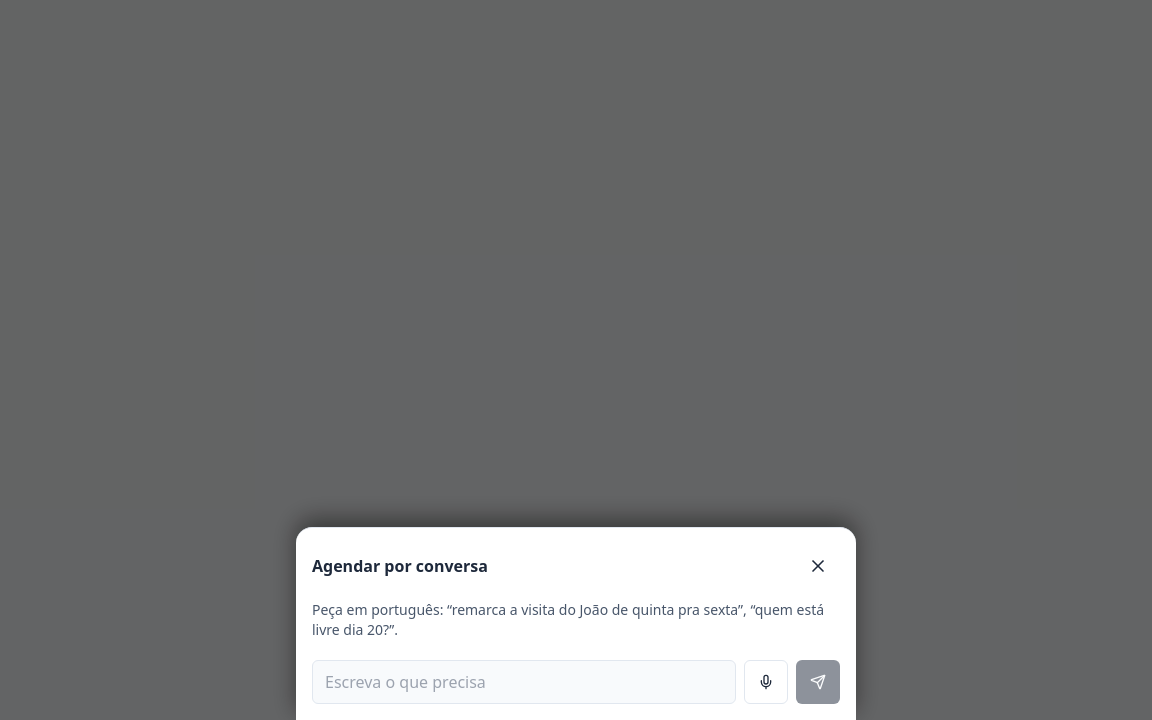
Test case: ChatAgenda › mostra a resposta de texto do assistente
Step 1. Type "o que tenho quinta?" into the field with placeholder "Escreva o que precisa" → (524, 682), box [312, 660, 736, 704]
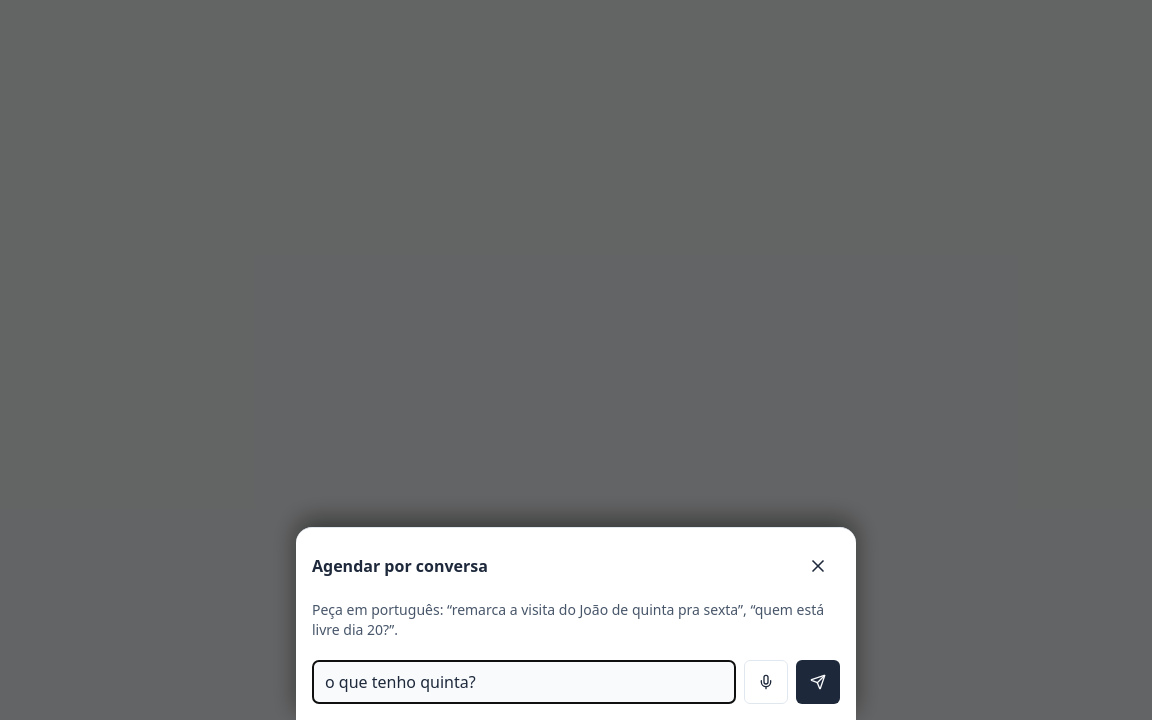
Step 2. Click the button named "enviar" → (818, 682), box [796, 660, 840, 704]
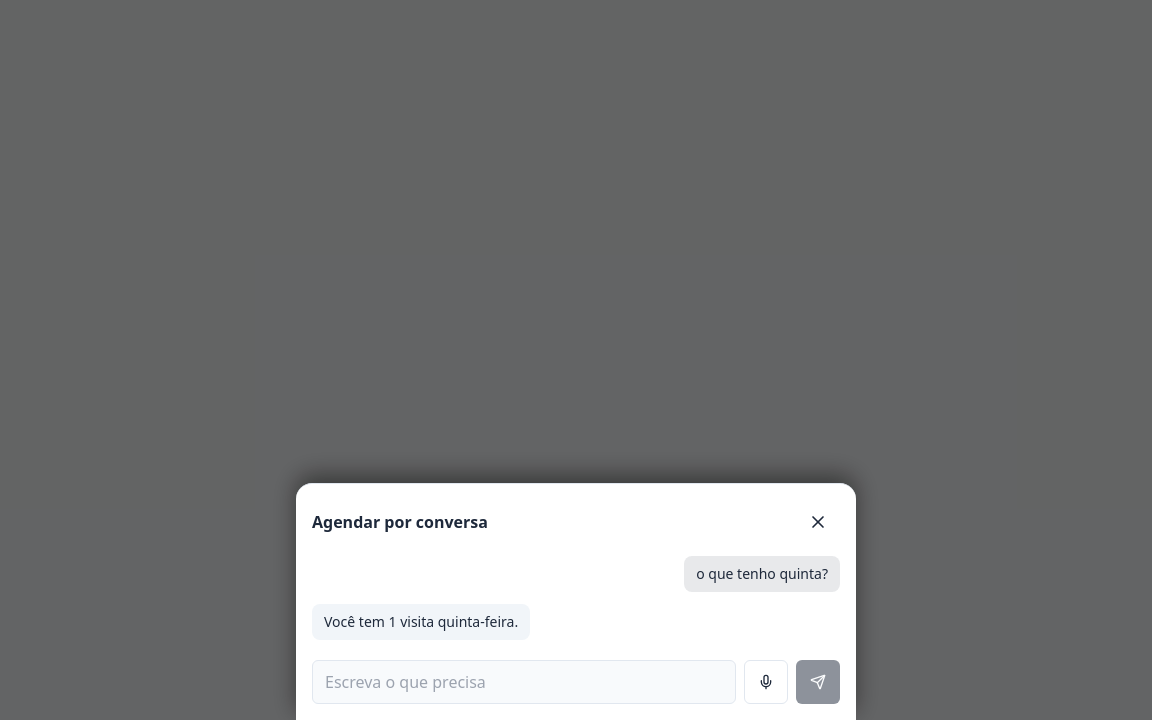
Check: the text "Você tem 1 visita quinta-feira." is shown, box [324, 612, 518, 632]
